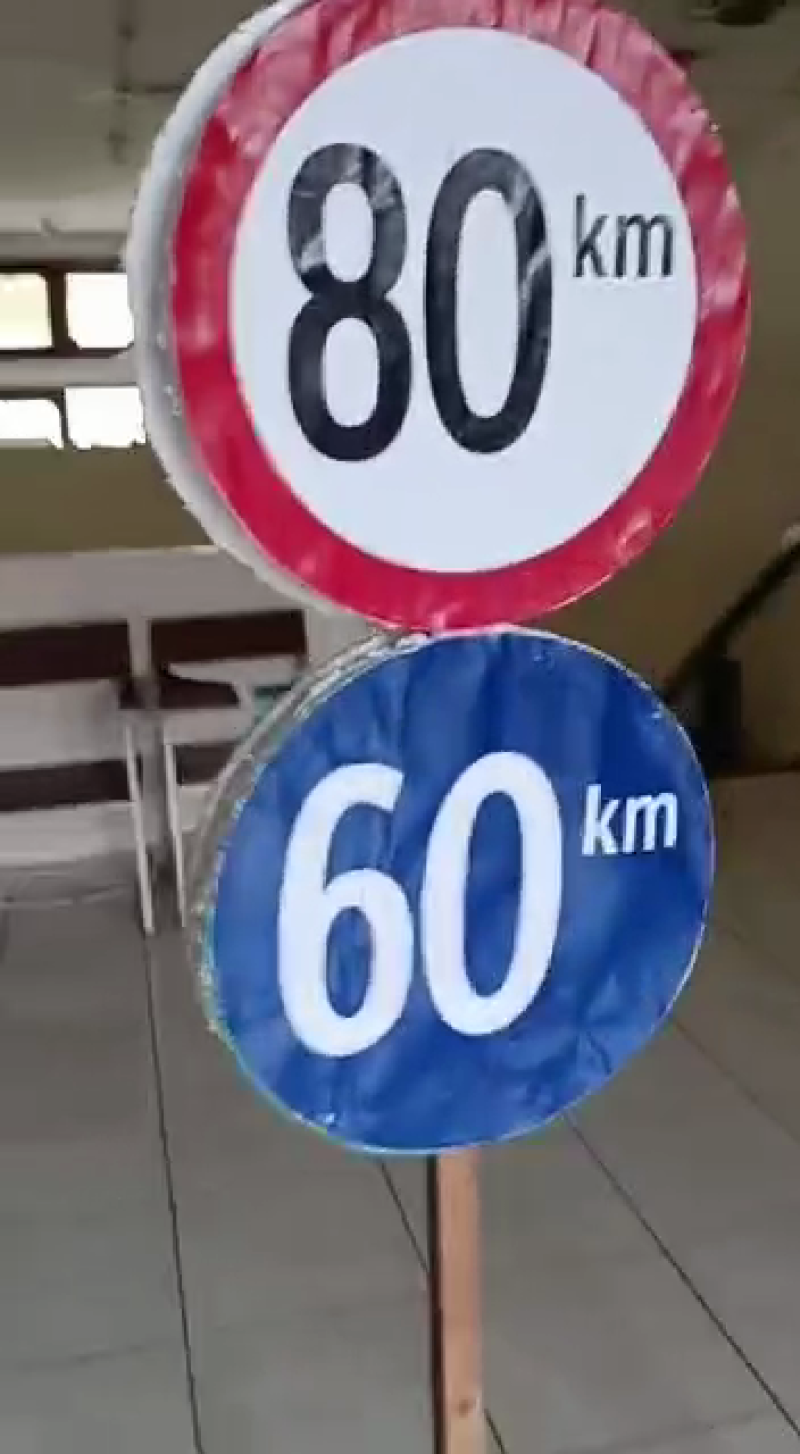batas maksimal 80kmperjam minimal 60kmperjam: (178, 1, 771, 1167)
